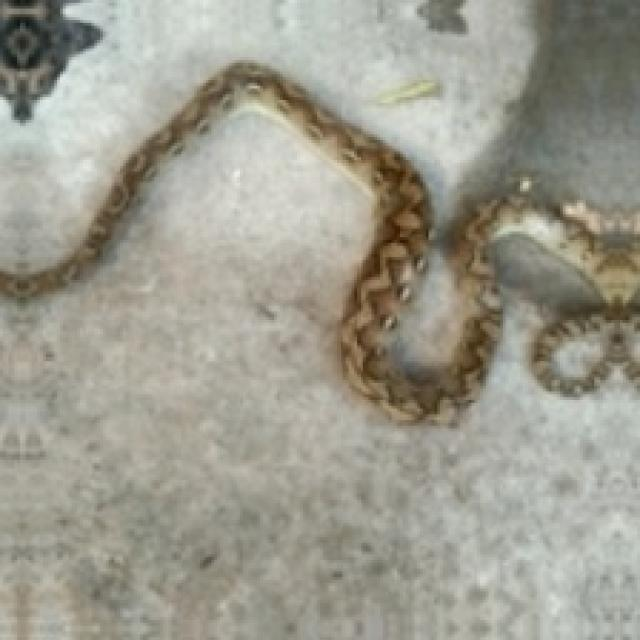reticulated python: (0, 63, 637, 420)
